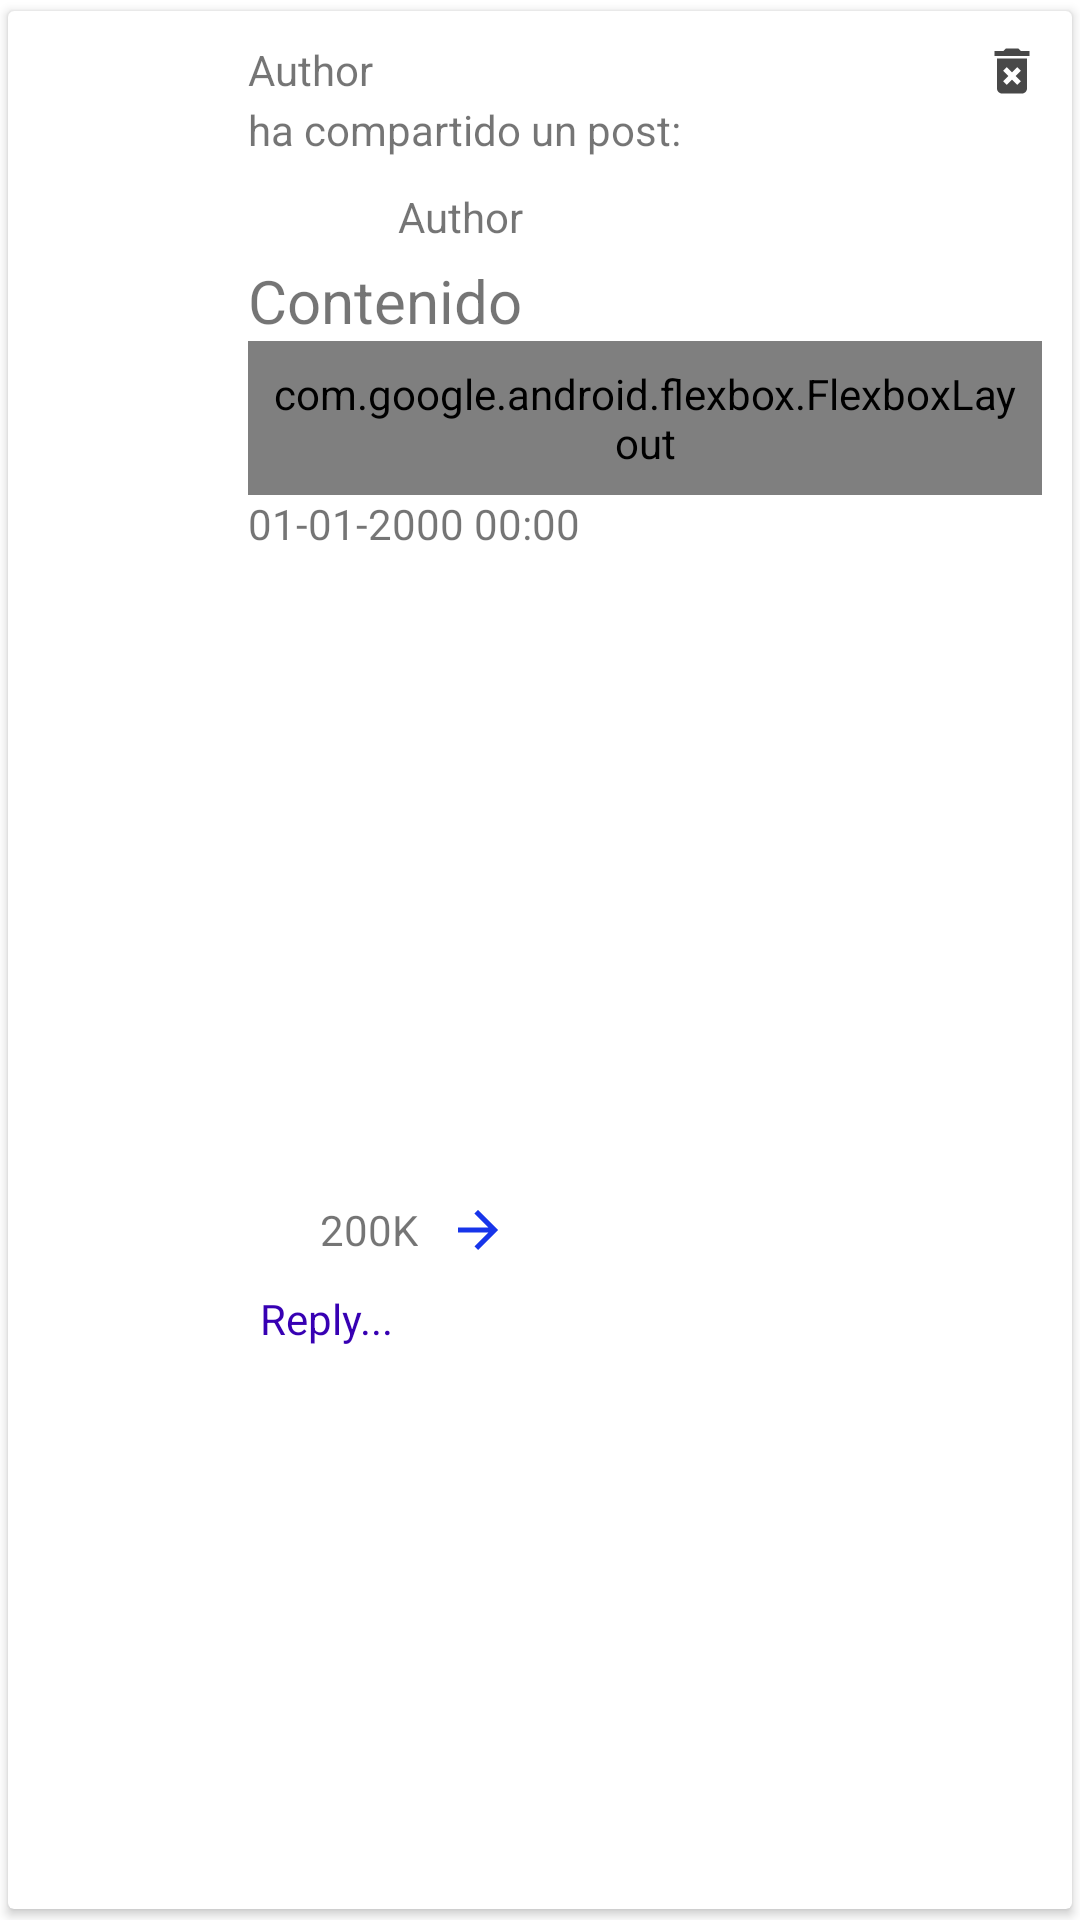

Named icons in this screenshot (1080 × 1920) and their centers, point (x, y):
delete: point (1012, 71)
